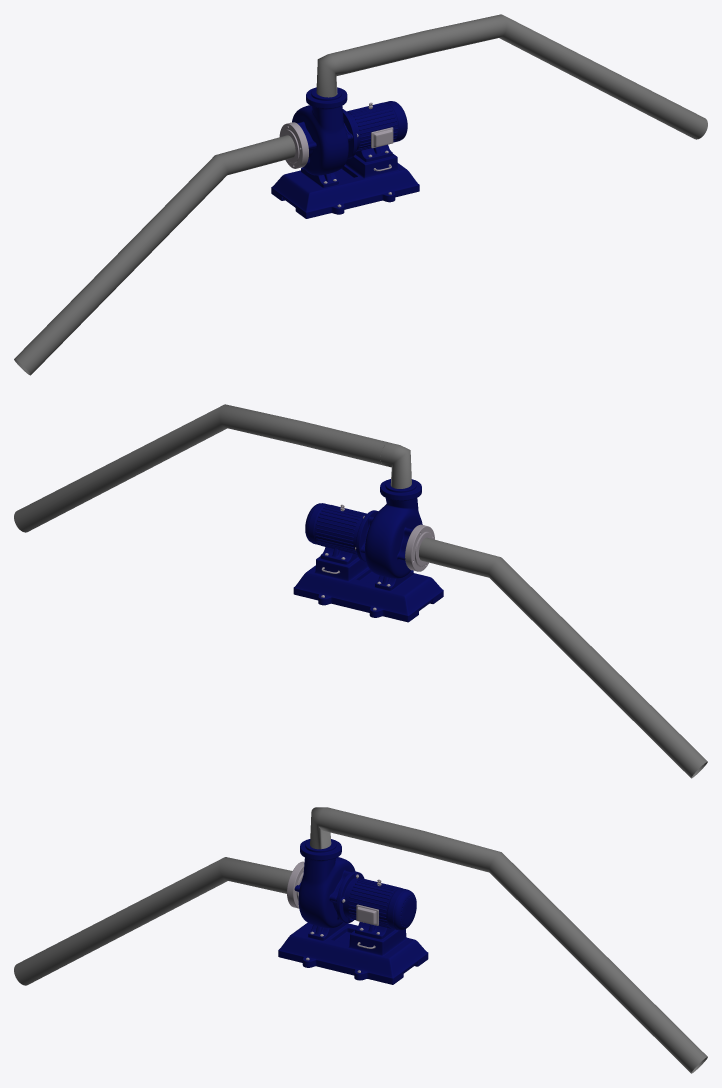
File: pump-bauer.glb
The picture shows the model from 3 angles, top to bottom: view 1: azimuth 30°, elevation 25°; view 2: azimuth 150°, elevation 25°; view 3: azimuth 330°, elevation 25°; orthographic projection.
Visible parts, largest first — view 1: motor, tubulação_fazenda, tubulação_rio; view 2: motor, tubulação_fazenda, tubulação_rio; view 3: motor, tubulação_fazenda, tubulação_rio.
Boxes of the visible parts, x1,y1,x2,y2 form: motor: (271,87,419,218); tubulação_fazenda: (316,14,707,139); tubulação_rio: (14,135,295,375); motor: (293,479,443,622); tubulação_fazenda: (14,404,411,532); tubulação_rio: (419,537,707,778); motor: (278,839,428,984); tubulação_fazenda: (310,807,707,1073); tubulação_rio: (14,857,292,985).
Bounding box in the file's own units: 511 × 179 × 55.98.
